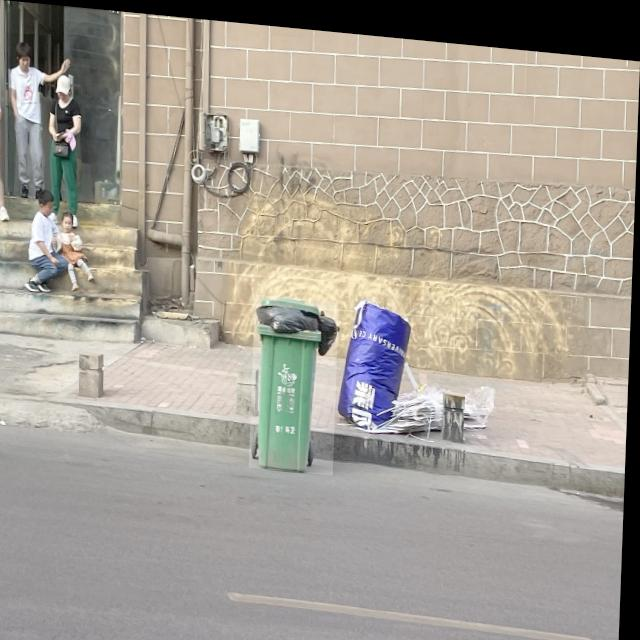garbage: (339, 290, 499, 439)
overflow: (253, 289, 342, 468)
